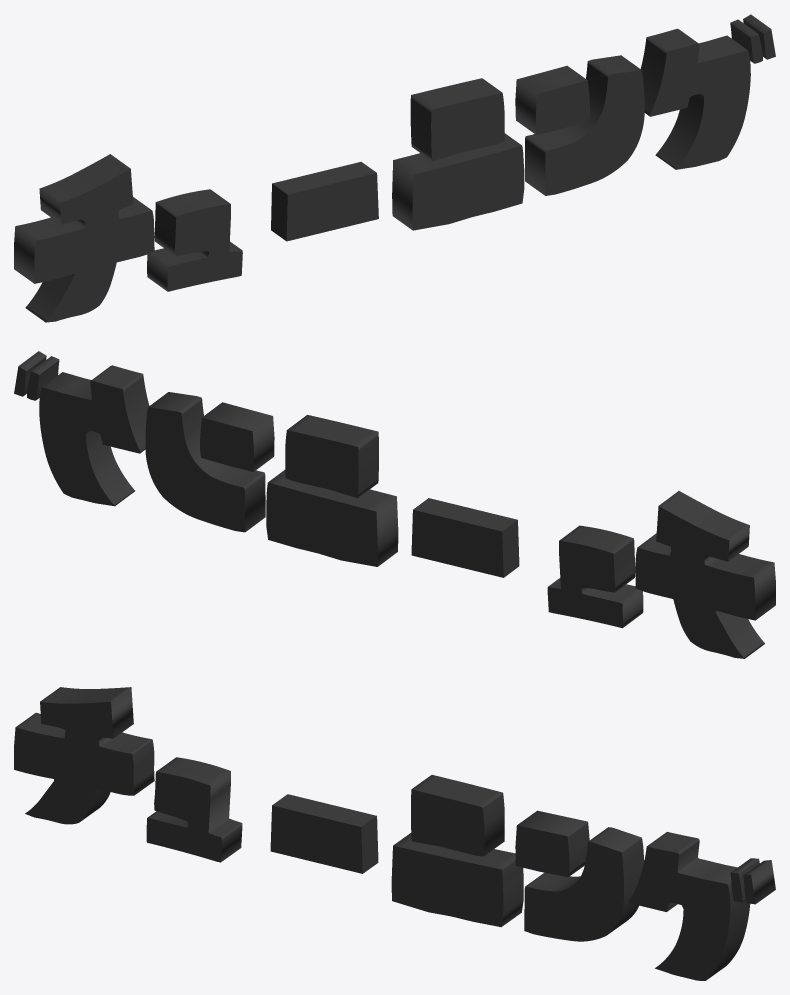
Rendered from Title.obj.
The picture shows the model from 3 angles, top to bottom: view 1: azimuth 30°, elevation 25°; view 2: azimuth 150°, elevation 25°; view 3: azimuth 330°, elevation 25°; orthographic projection.
Visible parts, largest first — view 1: 立方体; view 2: 立方体; view 3: 立方体.
Part boxes in pixels (x1,y1,x2,y2): 立方体: (14,14,775,322); 立方体: (14,351,775,658); 立方体: (14,687,775,980).
Bounding box in the file's own units: 5.44 × 0.9506 × 0.2676.
Materials: 1 (1 with a texture image).
